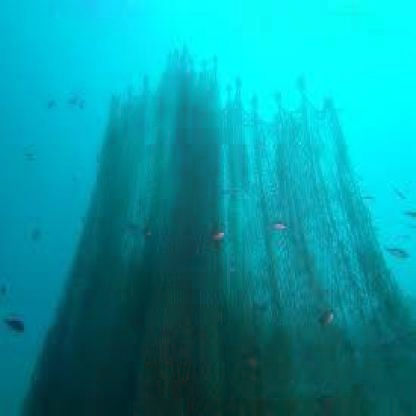net: (99, 51, 394, 332)
